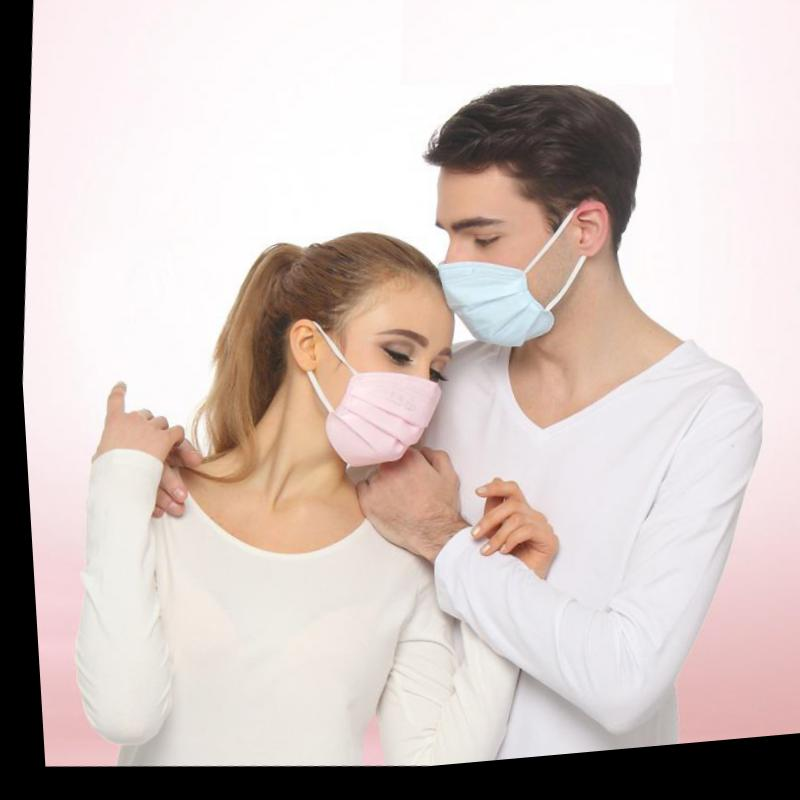OK: (311, 285, 458, 484), (419, 189, 560, 367)
